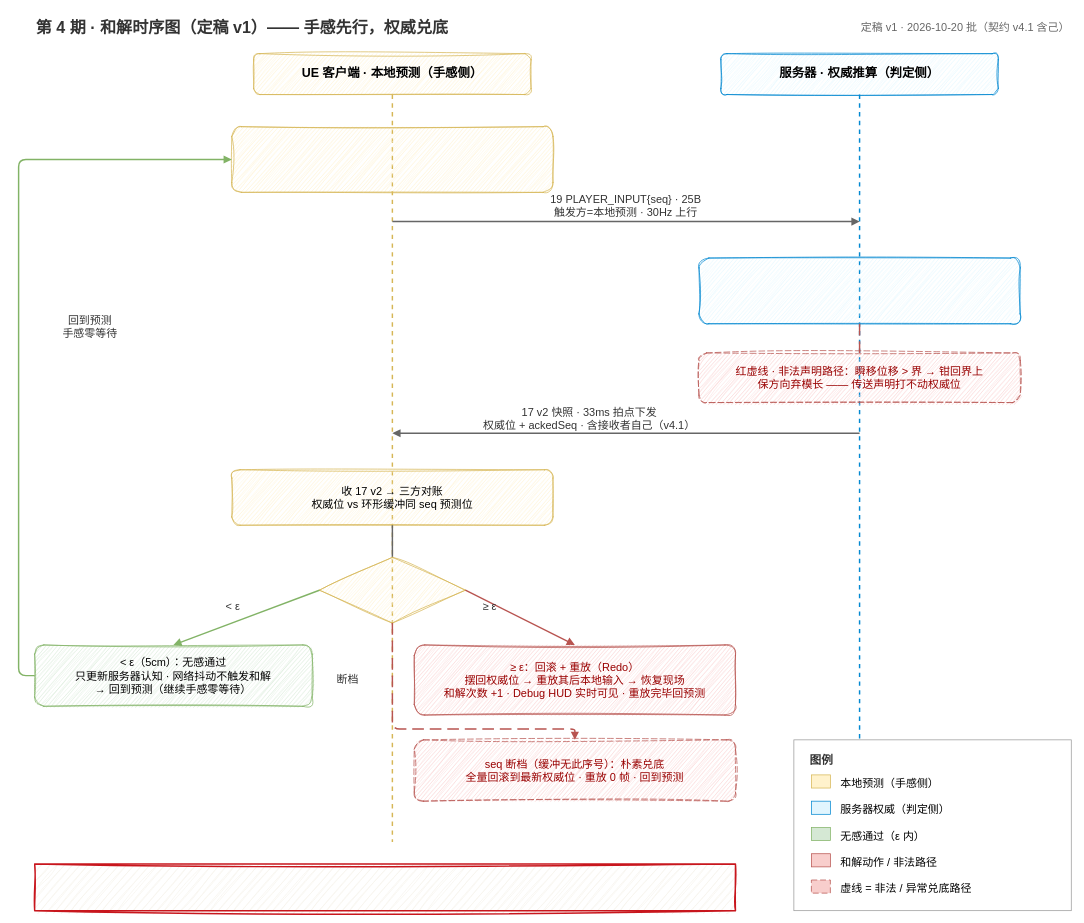
The diagram is 1084 pixels wide and 923 high, and some of its shapes have lost their labels. The box of each missing label's shape, as (x1, y1, x2, y2) in pixels:
三分支: (319, 557, 465, 623)
客户端抄作业，服务器批改后重抄 —— 手感先行，权威兑底: (34, 863, 736, 911)
本地预测执行 输入 → 立即移动 · 手感零等待 入环形缓冲 (seq,位置,朝向)×1s: (231, 126, 553, 192)
权威推算（裁决方=服务器） 权威位 = 上次权威位 + 钳制后增量 最小合法性钳制 · 界 = 100uu/条: (698, 257, 1020, 324)
